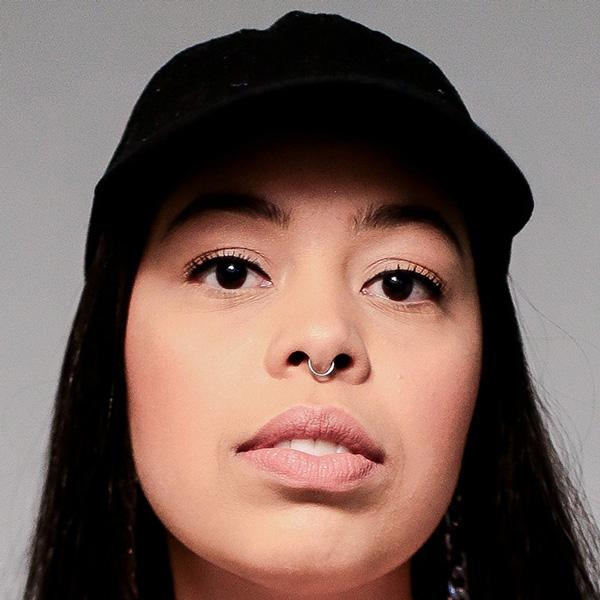Eyes: (348, 249, 464, 329), (178, 238, 279, 306)
